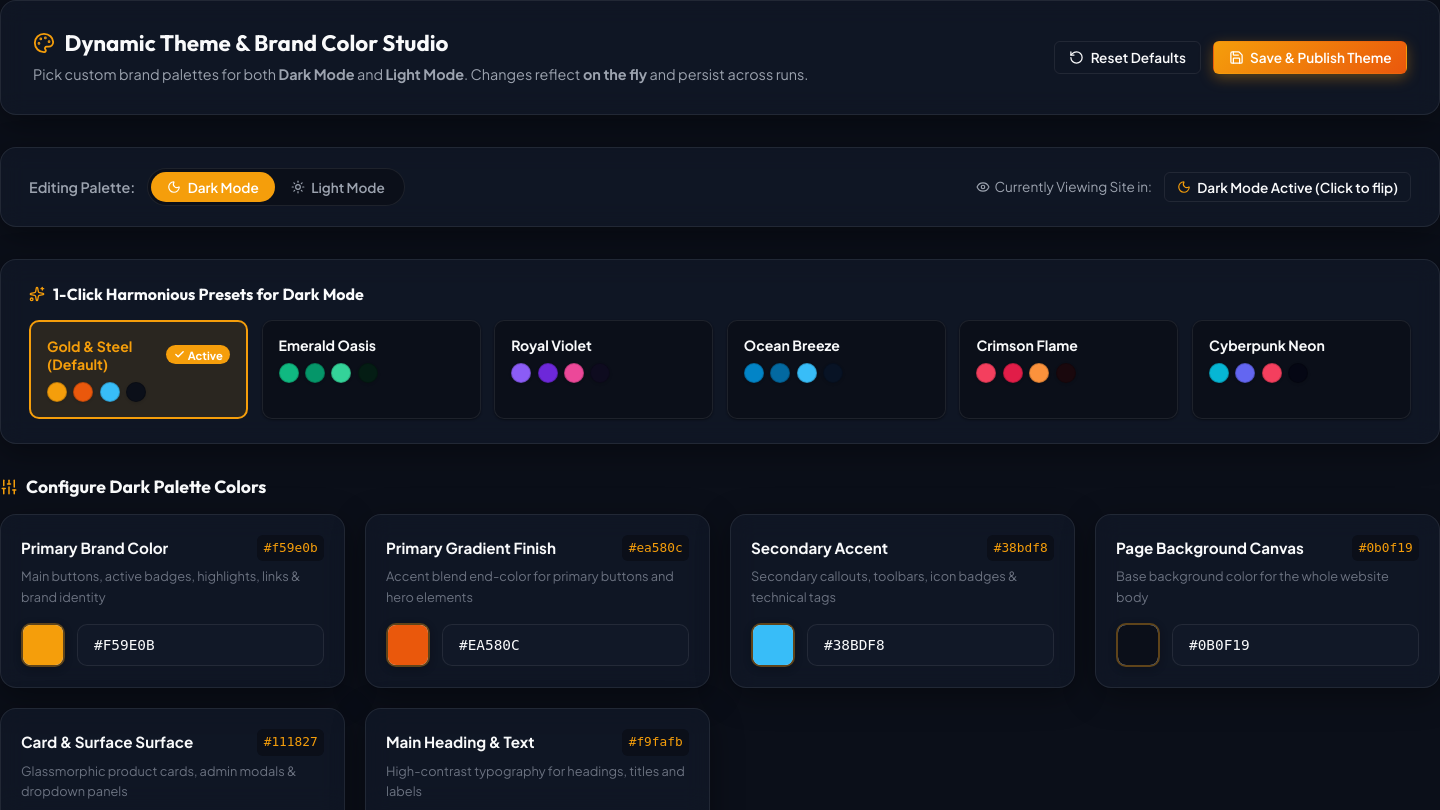
ThemeCustomizerTab Component › allows switching between Dark Mode and Light Mode editing tabs
What coordinates should you click on to do the following:
click the button "Light Mode"
I would click on:
 (338, 187)
Its box is [275,172,401,202].
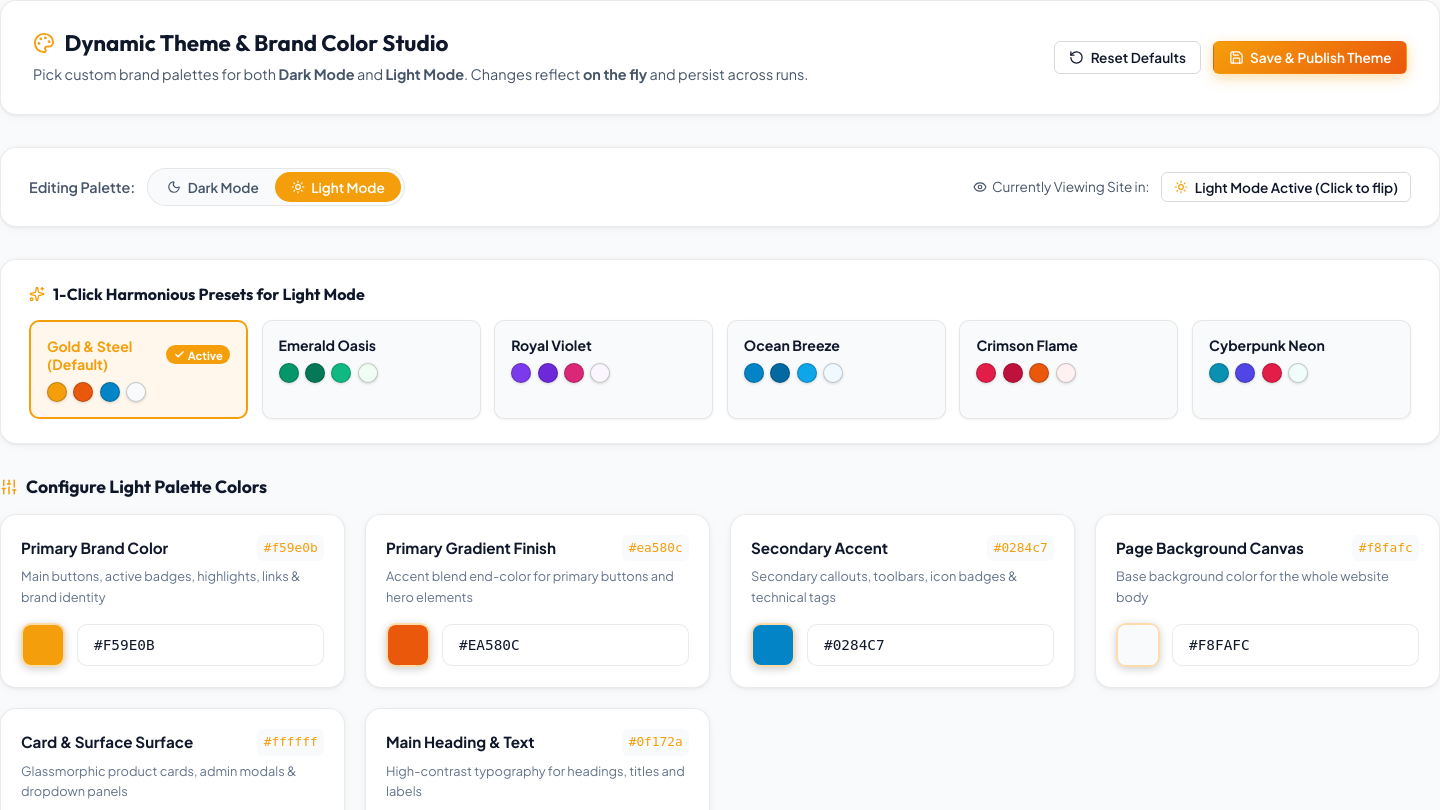
Now the heading "Configure Light Palette Colors" is shown, box [26,476,267,498]
